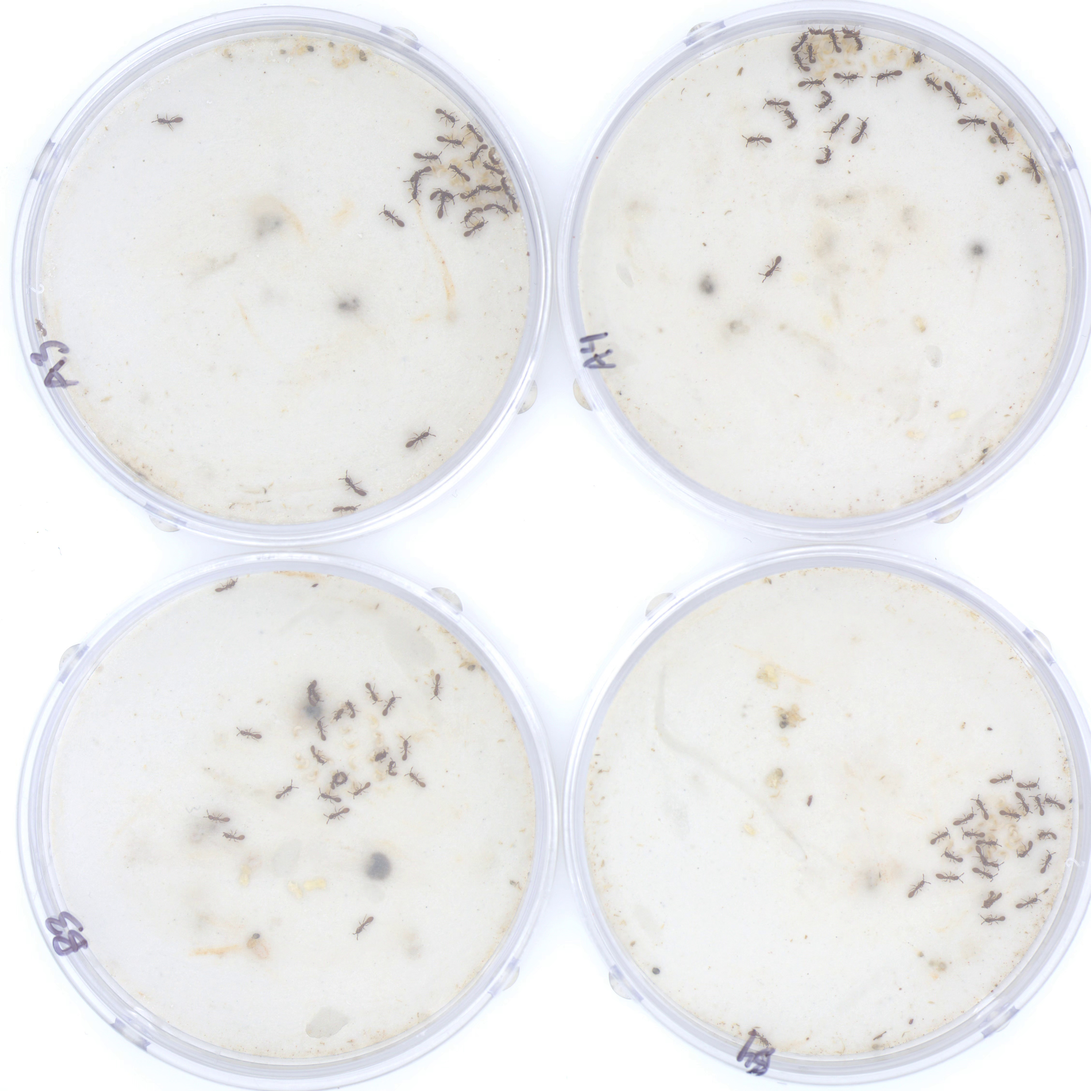brood: (425, 145, 513, 211), (797, 27, 870, 85), (975, 795, 1030, 843), (328, 701, 358, 723), (443, 127, 477, 145), (325, 768, 343, 798), (367, 746, 391, 765), (982, 833, 998, 860), (882, 47, 901, 65), (294, 752, 310, 770), (345, 774, 359, 794), (466, 215, 485, 229), (317, 750, 333, 764), (374, 768, 390, 782), (905, 54, 918, 71), (367, 713, 379, 730), (291, 724, 303, 740), (342, 739, 361, 749), (373, 732, 385, 747), (958, 845, 976, 855), (347, 755, 358, 771), (336, 725, 353, 735), (871, 53, 883, 67), (1005, 839, 1020, 850), (946, 835, 955, 853), (305, 769, 318, 781), (998, 850, 1010, 862)
